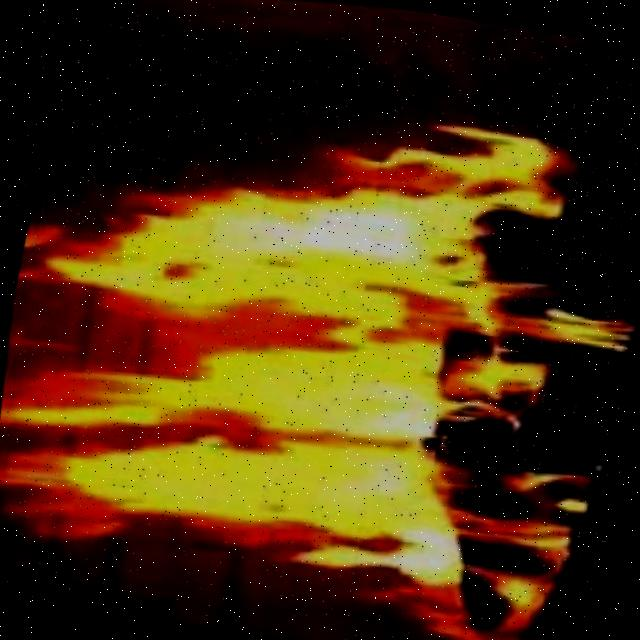fire: (0, 58, 573, 640)
